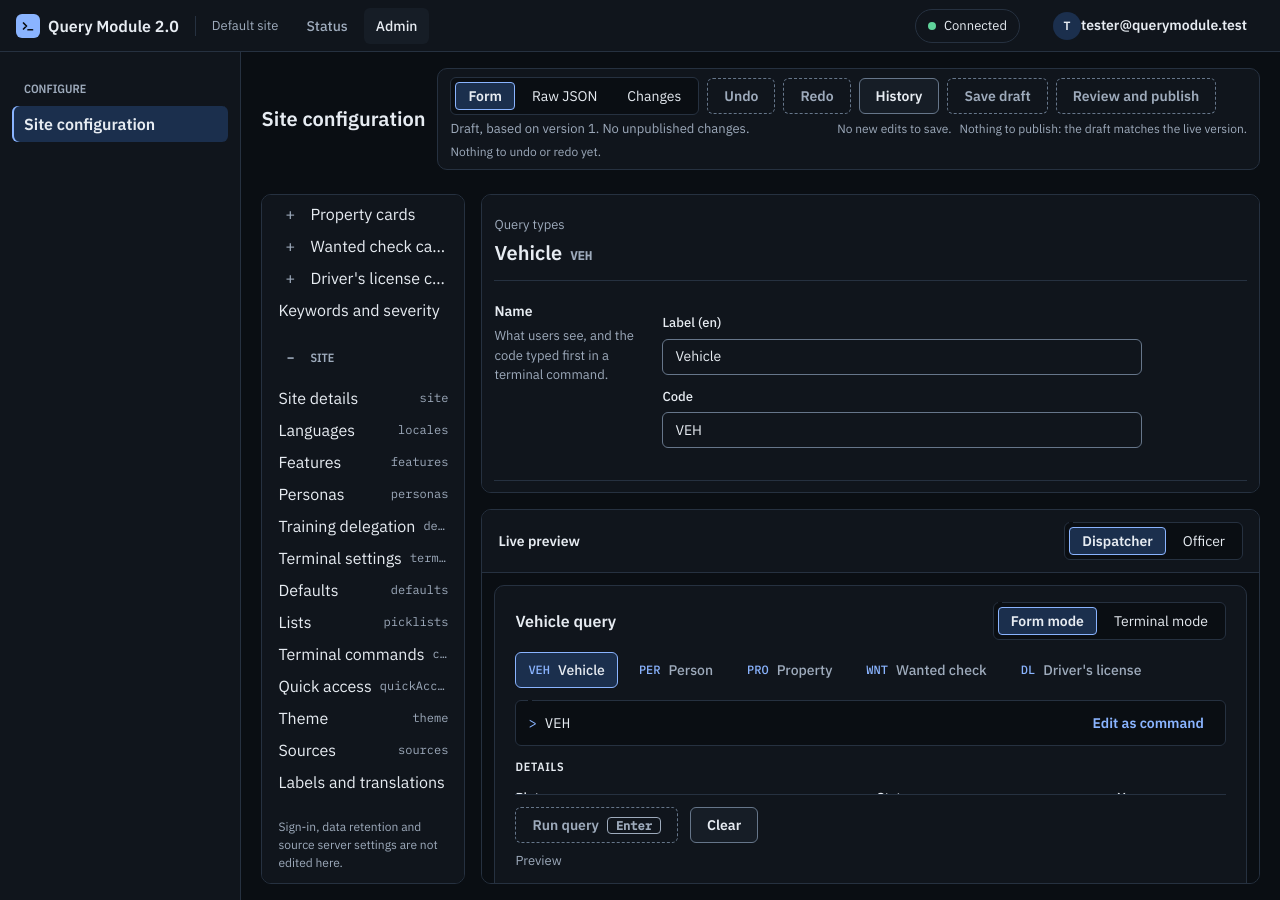
dirty-draft guard (B1) › signing out with changes asks first: a dialog that says what is lost, and nothing has happened yet
(page scrolled)
Expected: the tab "Form" is shown, [456, 82, 515, 110]
Click the list item "Terminal settings terminal" at [363, 558], box [270, 542, 456, 574]
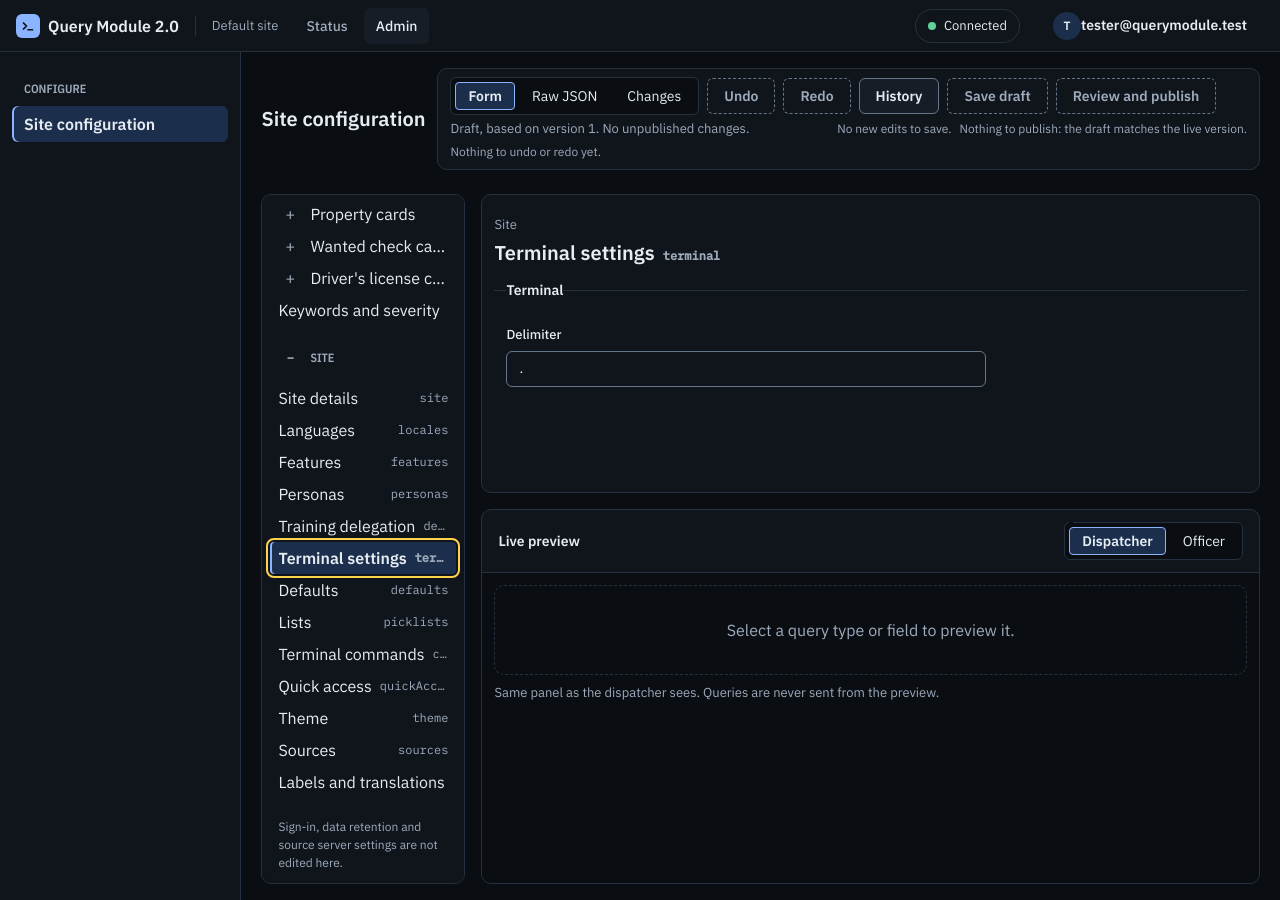
Clear the field labelled "Delimiter" at [746, 368], box [506, 350, 986, 386]
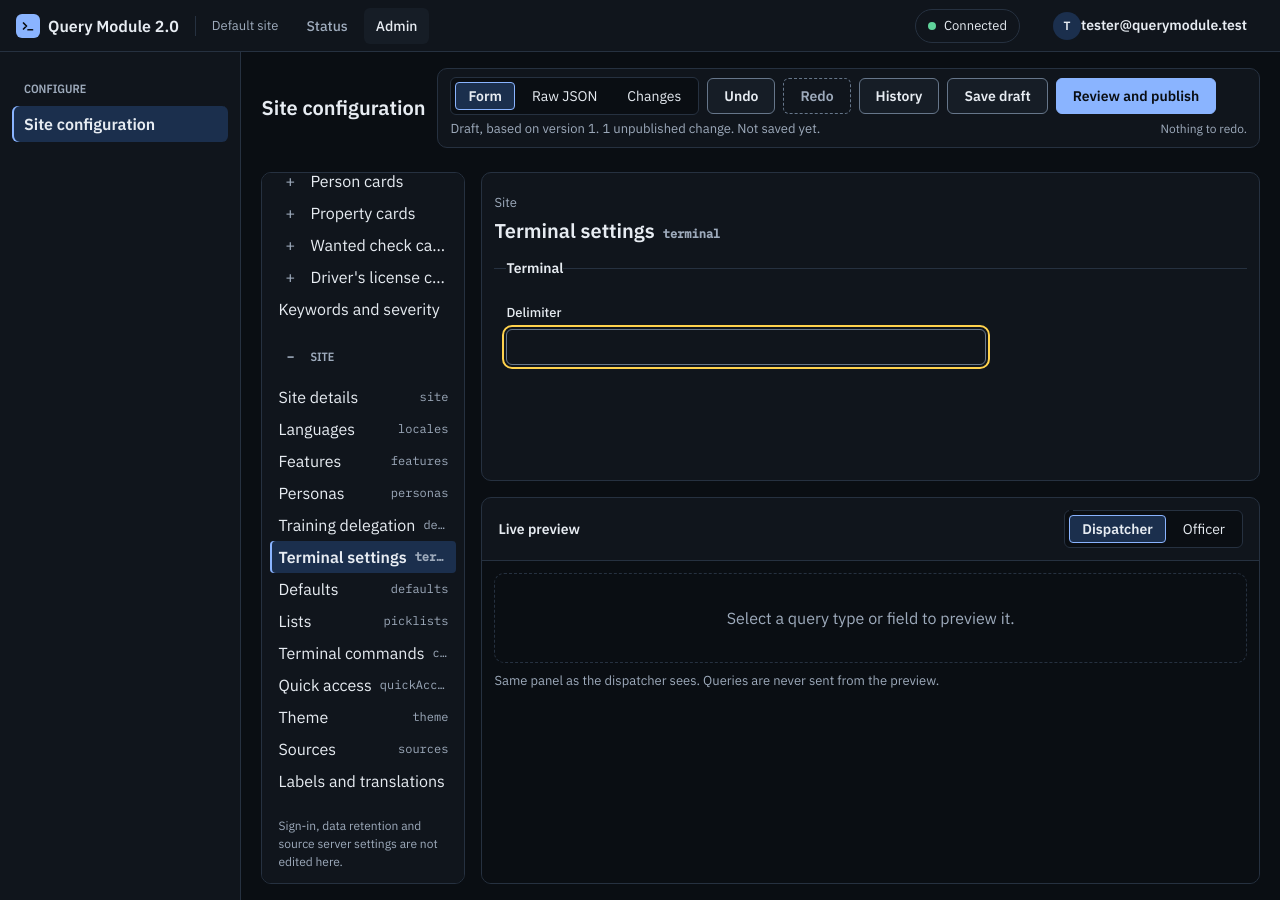
Type "~" into the field labelled "Delimiter" at [746, 346], box [506, 328, 986, 364]
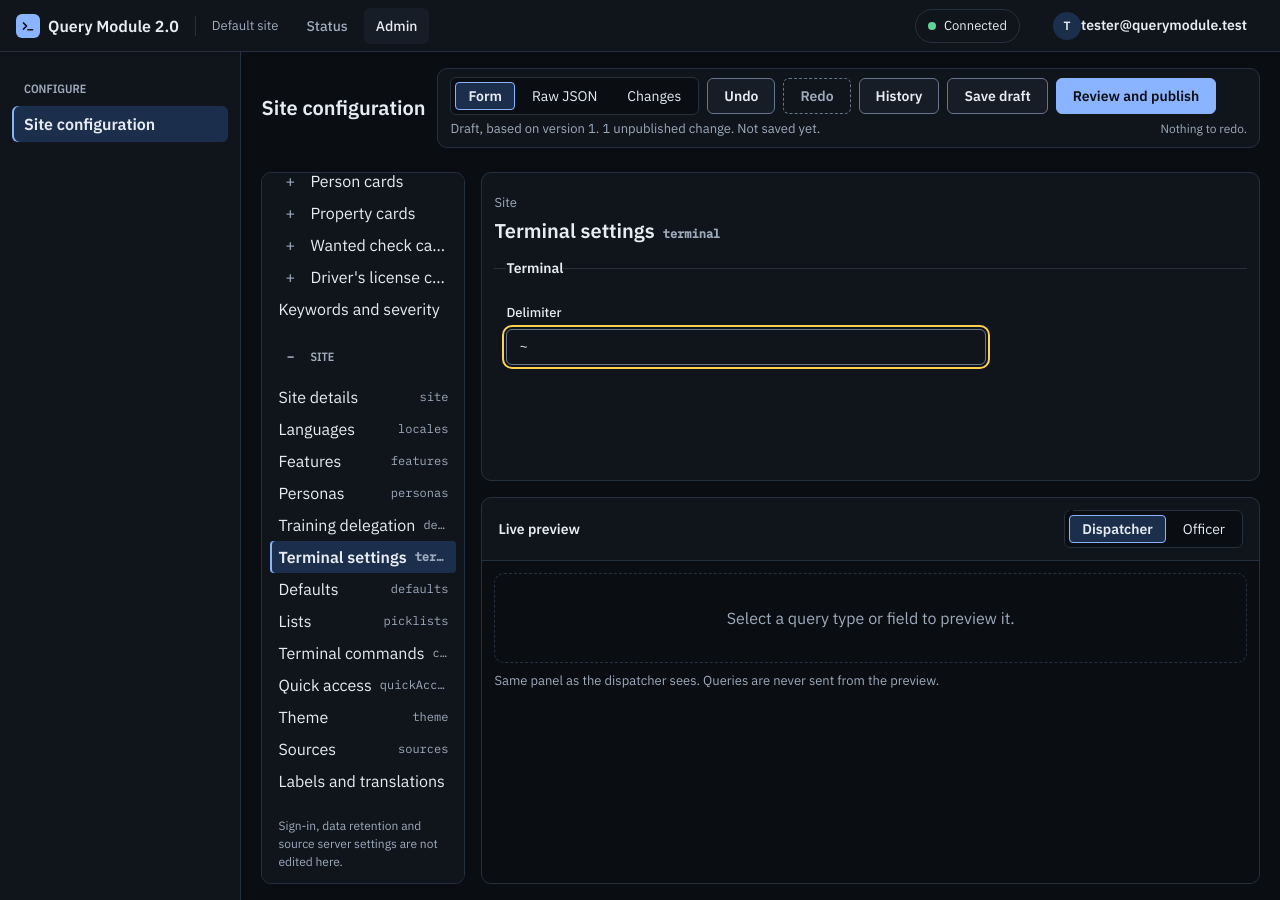
Click the button "T tester@querymodule.test" at [1150, 26], box [1036, 8, 1264, 44]
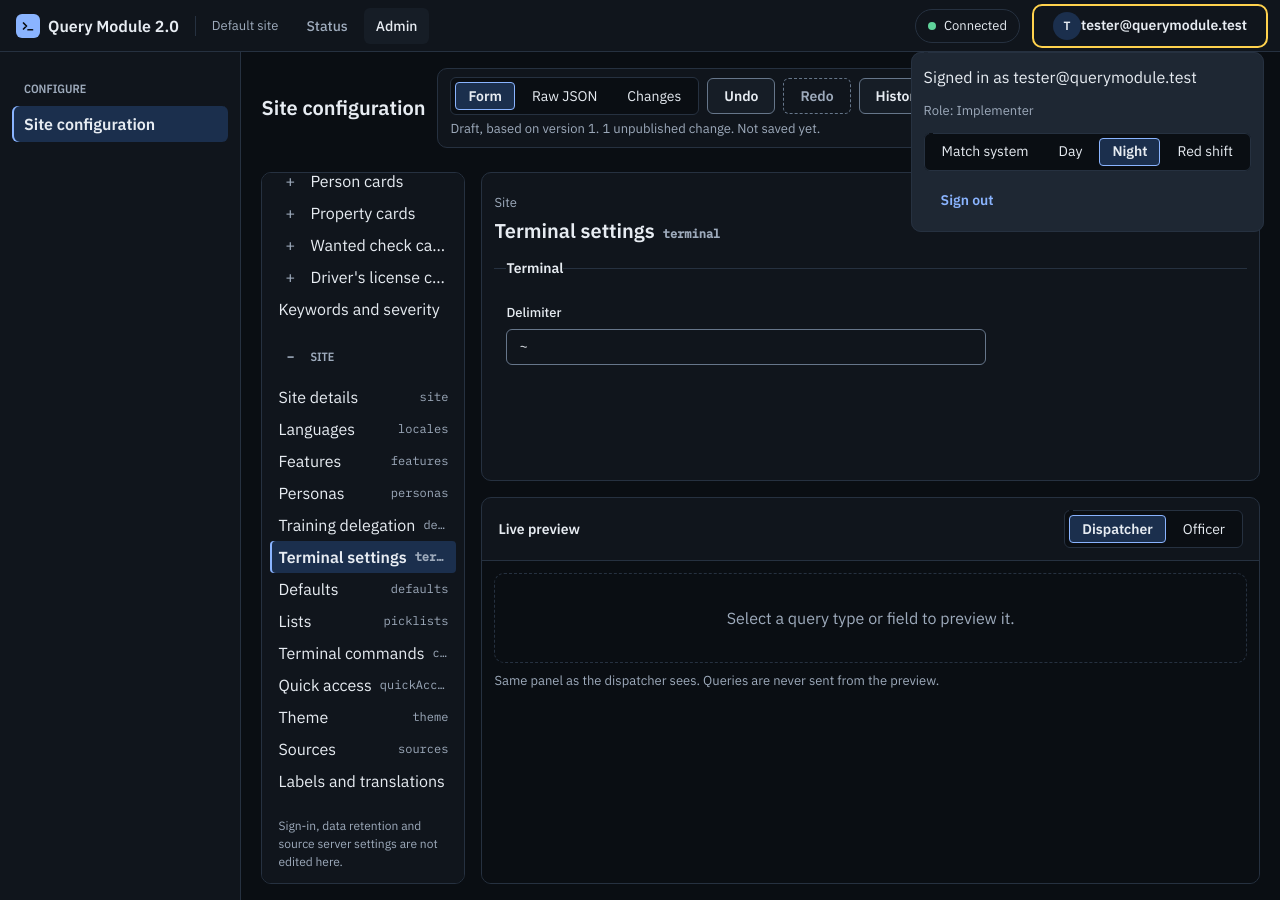
Click the button "Sign out" at [967, 200], box [924, 182, 1010, 218]
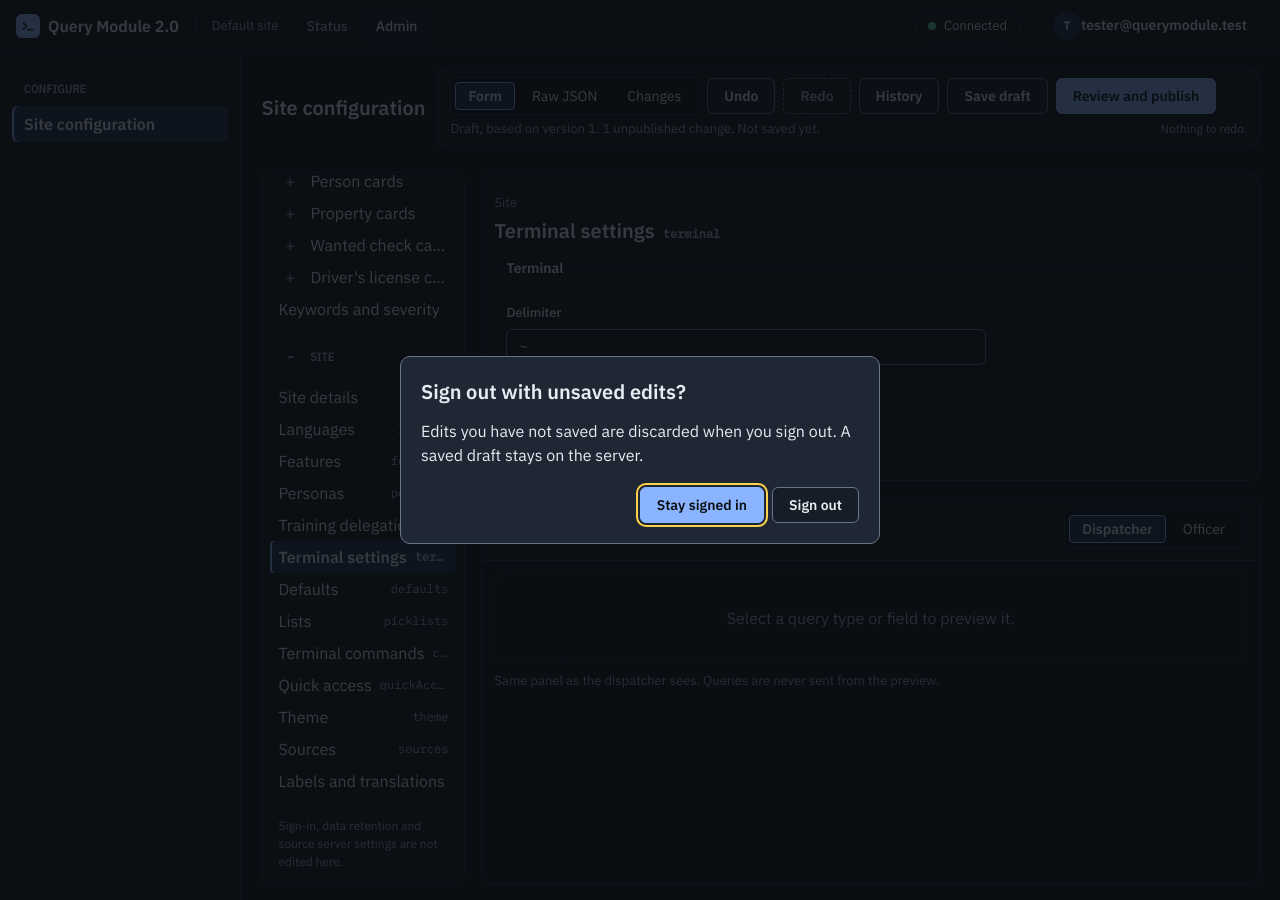
Expected: the tab "Form" is shown, [456, 82, 515, 110]
Expected: the dialog "Sign out with unsaved edits?" is shown, [400, 356, 880, 544]
